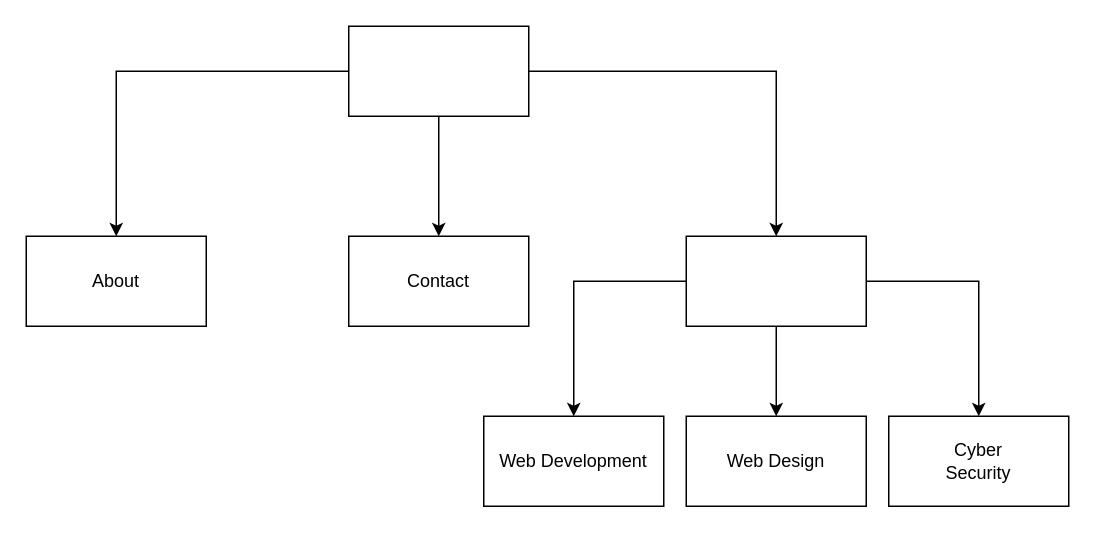
Some shapes in this 1095 by 533 pixel diagram are drawn without their labels. The shapes that lost their labels are listed below. From the top down, each one's centre as x and y in pixels, then its label:
At point 438,70: "Home".
At point 775,280: "Services".
